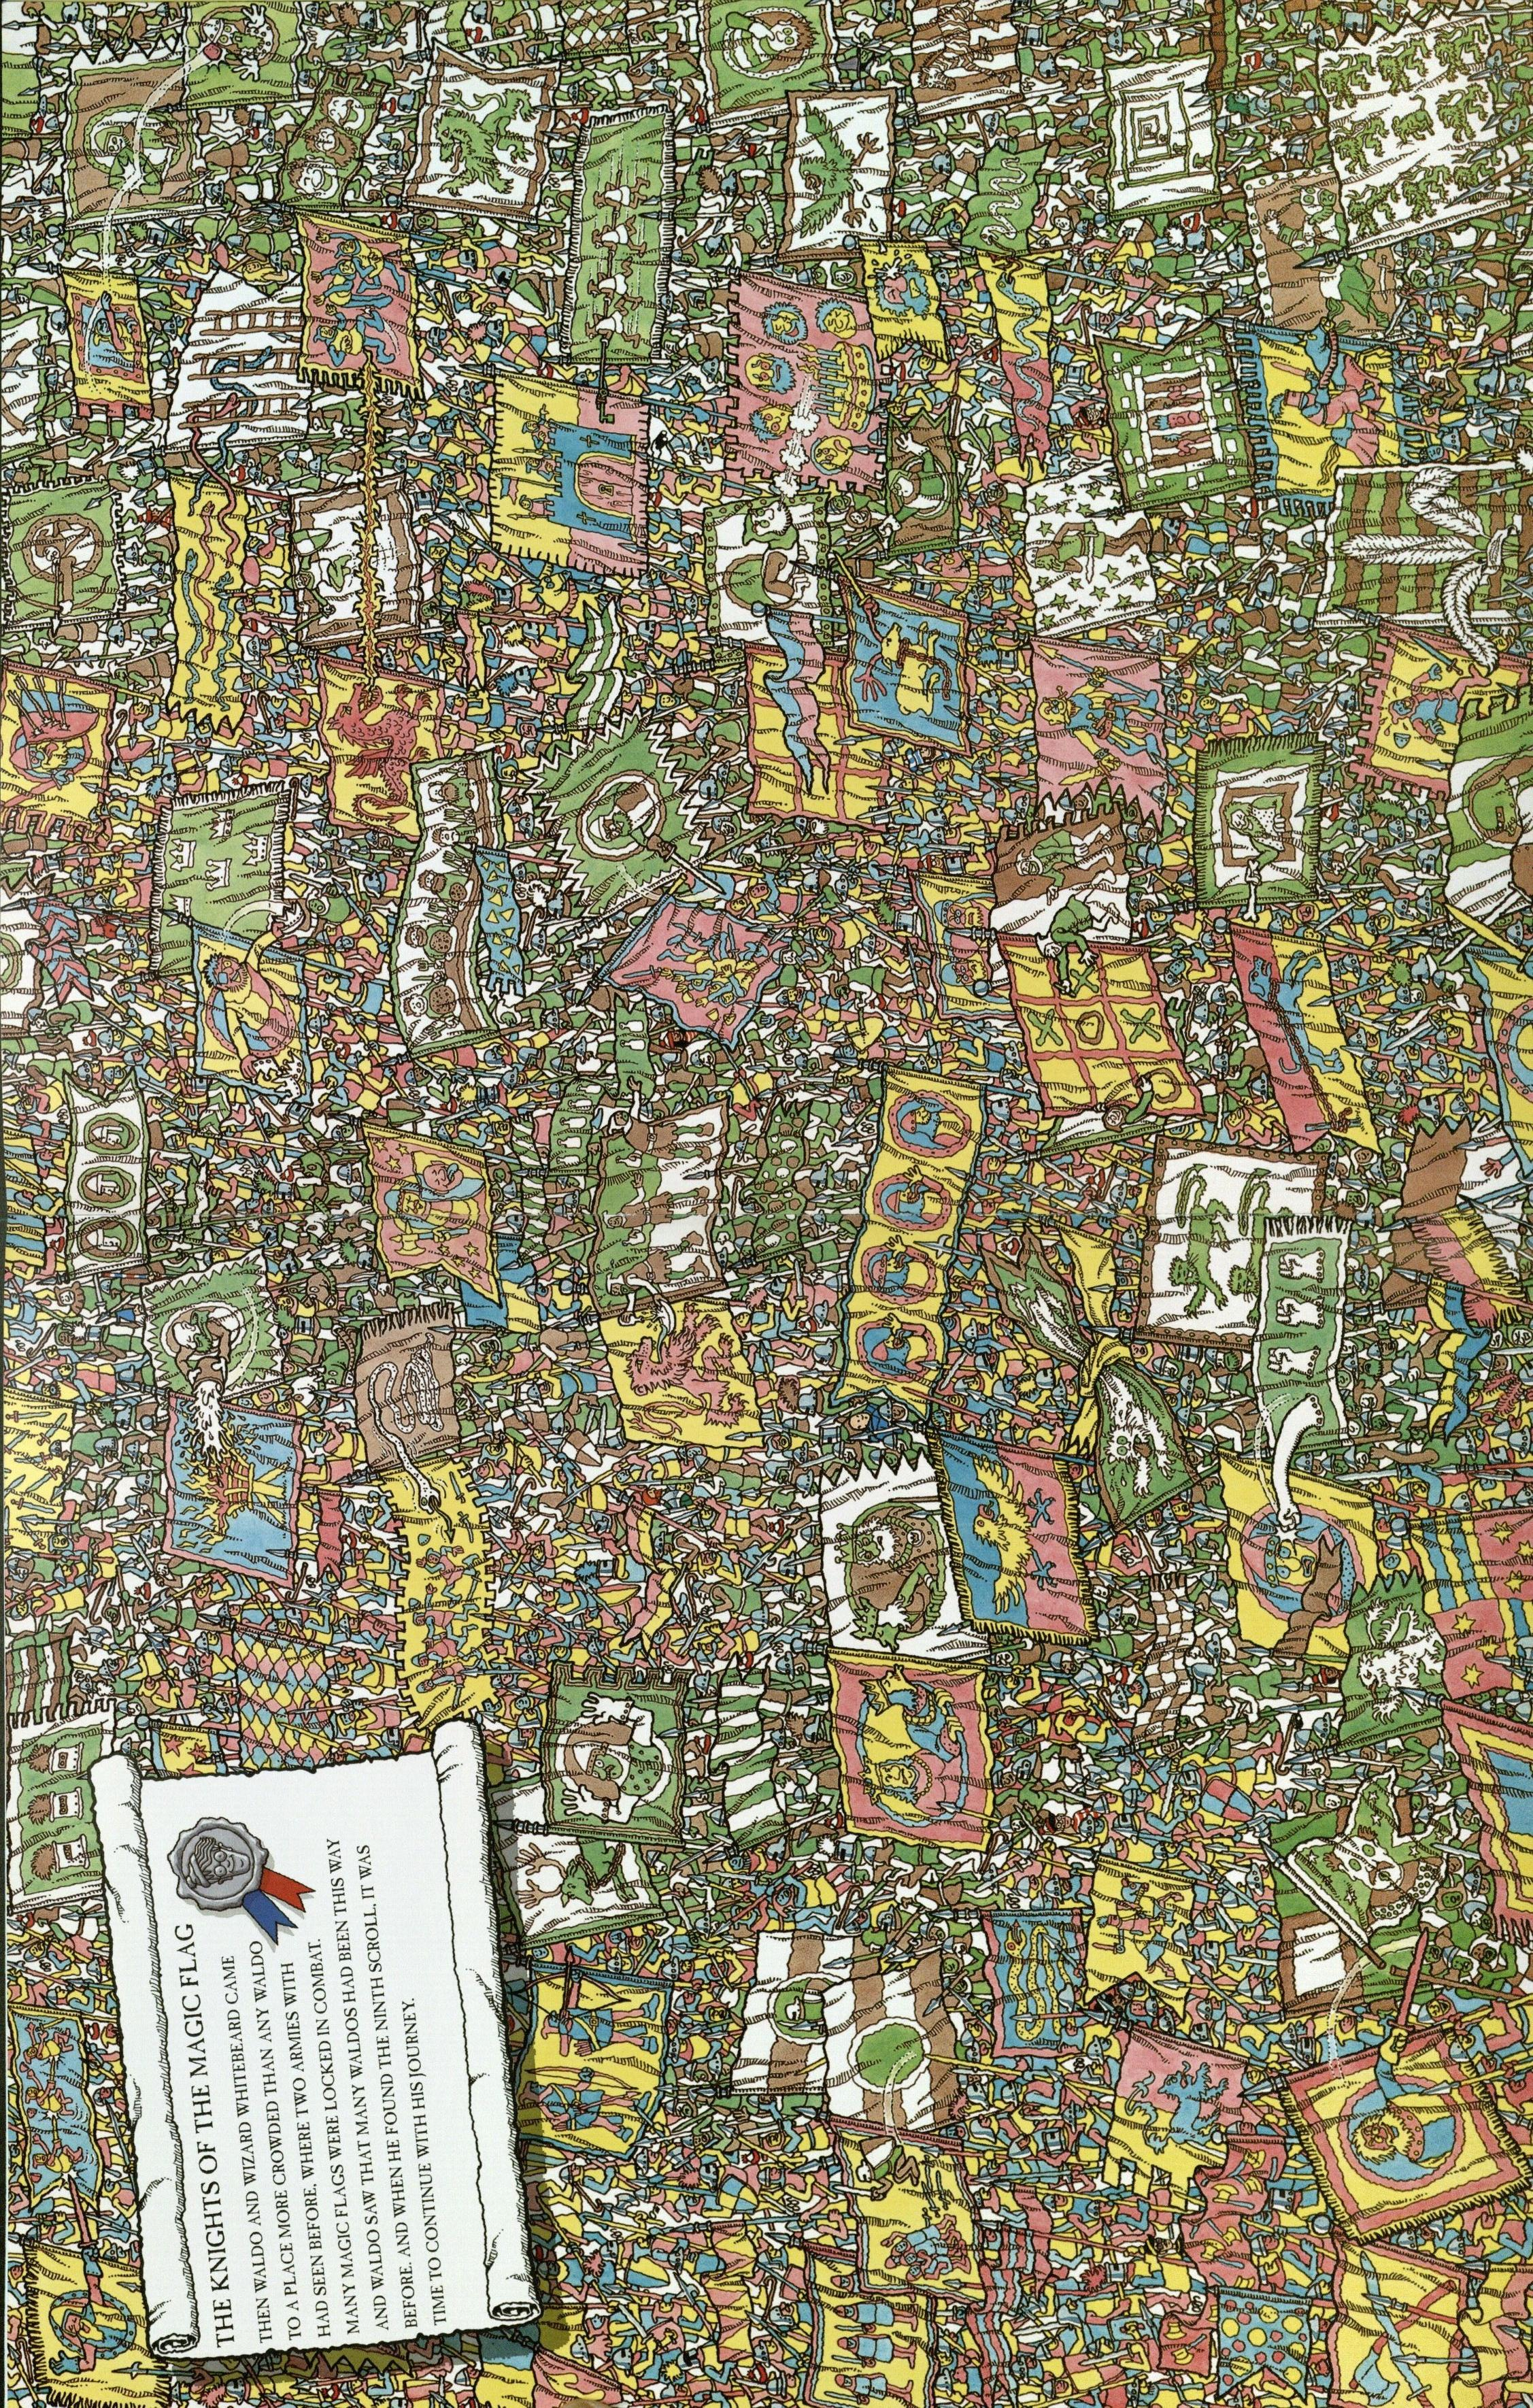waldos: (1037, 1806, 1103, 1838)
